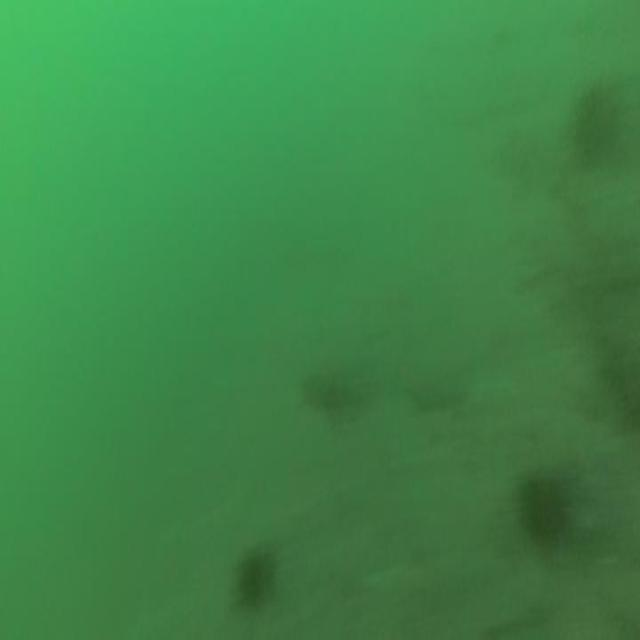echinus: (508, 460, 576, 555), (224, 531, 276, 618)
starfish: (405, 368, 471, 419)
